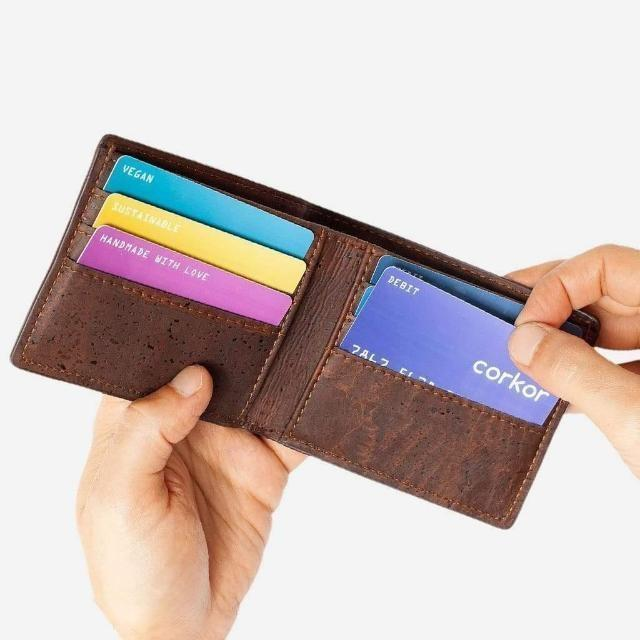Wallet: (12, 136, 598, 528)
